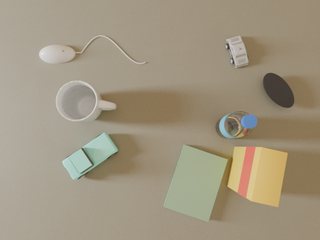book: (164, 145, 228, 222)
bottle: (216, 111, 257, 138)
box: (227, 147, 287, 207)
cup: (56, 81, 116, 123)
mouse: (263, 73, 294, 108), (39, 45, 75, 64)
toy_car: (63, 133, 118, 180), (226, 36, 248, 68)
